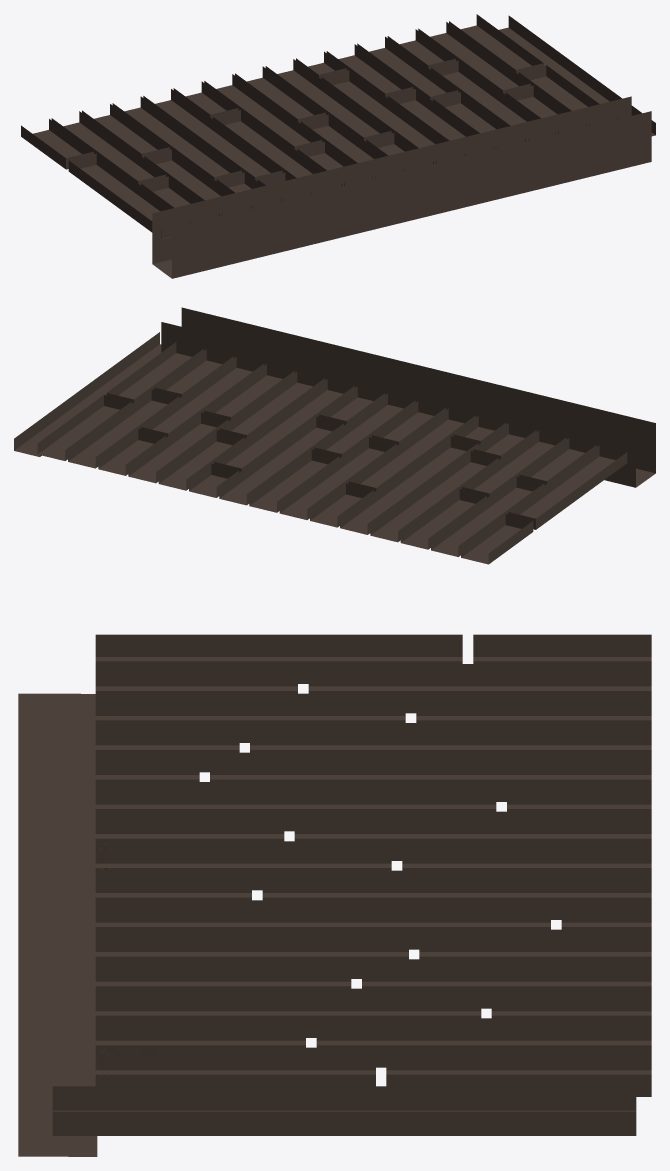
File: roof_tile.glb
3 views of the same model, one above another, from view 1: azimuth 30°, elevation 25°; view 2: azimuth 150°, elevation 25°; view 3: azimuth 270°, elevation 25° (orthographic). The views are drawn at different scales.
Visible parts, largest first — view 1: roof_tile1.005; view 2: roof_tile1.005; view 3: roof_tile1.005.
Part boxes in pixels (left/top/right/bottom): roof_tile1.005: left=21, top=14, right=655, bottom=278; roof_tile1.005: left=14, top=307, right=655, bottom=564; roof_tile1.005: left=18, top=634, right=651, bottom=1156.
Size of the model in its own units: 2 by 0.1971 by 1.13.
1 material, 1 textured.
